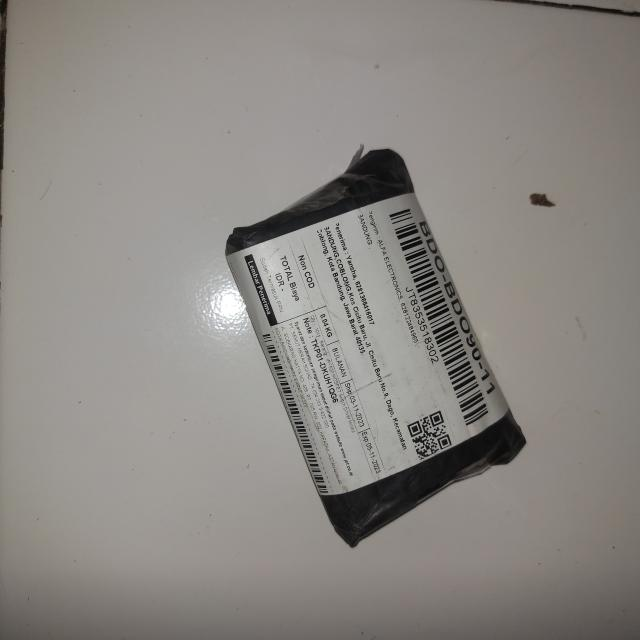Anorganik: (232, 151, 537, 551)
